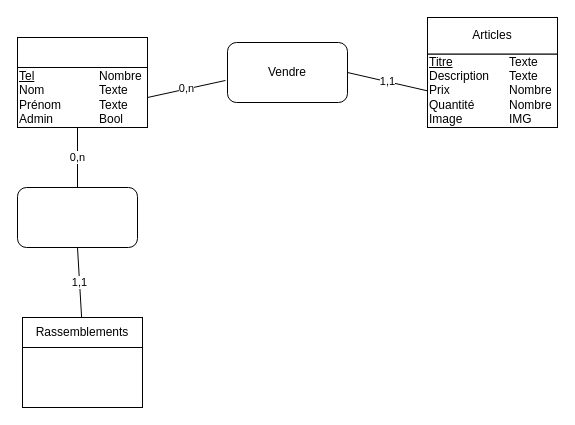
The diagram is 575 pixels wide and 425 high, and some of its shapes have lost their labels. The box of each missing label's shape, as (x1, y1, x2, y2) in pixels:
Créer: (16, 186, 138, 248)
Date Date Description Texte: (22, 346, 142, 408)
Membres: (16, 36, 148, 68)
